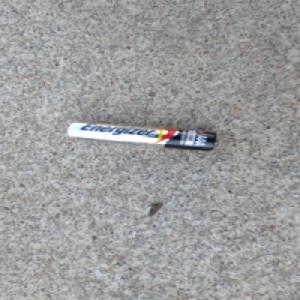Battery: (62, 120, 220, 152)
